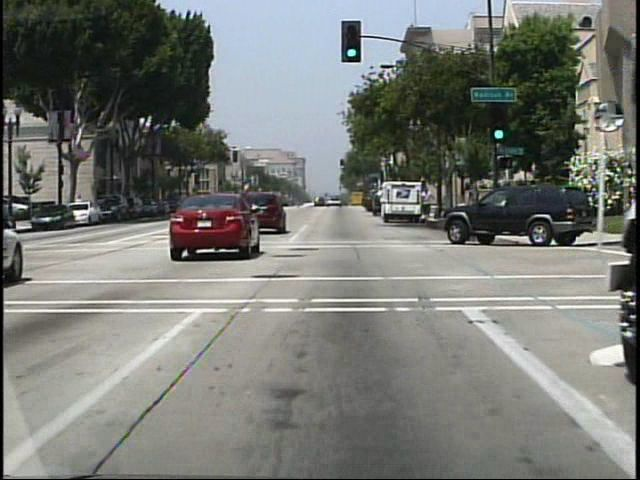person: (420, 187, 433, 219), (75, 192, 87, 217)
